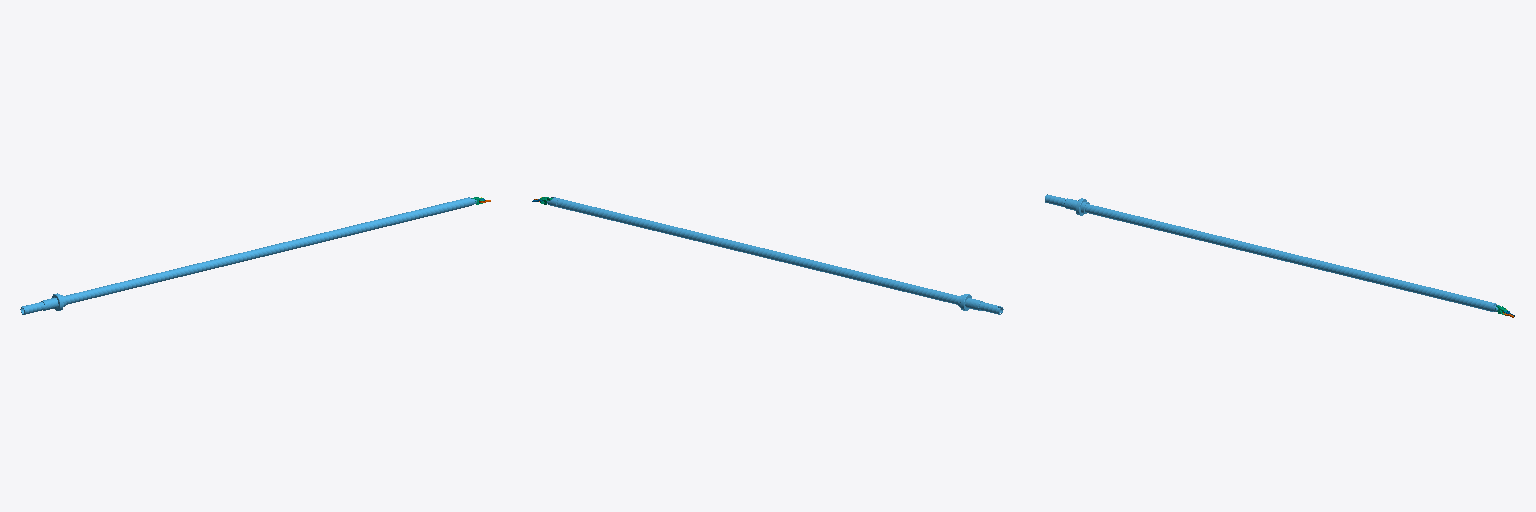
robot.urdf — Main:
<?xml version='1.0' encoding='utf-8'?>
<robot name="Main">
    <link name="tool_main_insert-v2">
        <inertial>
            <origin xyz="-0.0053624259279265694 0.007901906442564912 0.006377546474600954" rpy="0.0 0.0 0.0" />
            <mass value="0.36010027632856906" />
            <inertia ixx="0.00016552115582077248" iyy="0.00040436128711595" izz="0.00030462812672732756" ixy="-8.160725180885336e-06" iyz="5.783785476504269e-09" ixz="3.917362557990069e-08" />
        </inertial>
        <visual name="tool_main_insert-v2_visual">
            <origin xyz="0.0 0.0 0.0" rpy="0.0 0.0 0.0" />
            <geometry>
                <mesh filename="meshes/tool_main_insert-v2.stl" scale="0.001 0.001 0.001" />
            </geometry>
        </visual>
        <collision name="tool_main_insert-v2_collision">
            <origin xyz="0.0 0.0 0.0" rpy="0.0 0.0 0.0" />
            <geometry>
                <mesh filename="meshes/tool_main_insert-v2.stl" scale="0.001 0.001 0.001" />
            </geometry>
        </collision>
    </link>
    <link name="tool_roll_link-v2">
        <inertial>
            <origin xyz="-5.7532335806520506e-09 1.2608024446691956e-09 0.1967211841039864" rpy="0.0 -0.0 0.0" />
            <mass value="0.10488677381482023" />
            <inertia ixx="0.0021125264338710745" iyy="0.002112522692833081" izz="1.5071702981895865e-06" ixy="-5.059757192914916e-10" iyz="3.659973454948201e-10" ixz="2.0093792279488217e-10" />
        </inertial>
        <visual name="tool_roll_link-v2_visual">
            <origin xyz="-0.004490417415677974 0.013859238485145252 0.22368699399447528" rpy="-5.989552451538521e-17 -1.2724994776185814e-17 2.932252056193504" />
            <geometry>
                <mesh filename="meshes/tool_roll_link-v2.stl" scale="0.001 0.001 0.001" />
            </geometry>
        </visual>
        <collision name="tool_roll_link-v2_collision">
            <origin xyz="-0.004490417415677974 0.013859238485145252 0.22368699399447528" rpy="-5.989552451538521e-17 -1.2724994776185814e-17 2.932252056193504" />
            <geometry>
                <mesh filename="meshes/tool_roll_link-v2.stl" scale="0.001 0.001 0.001" />
            </geometry>
        </collision>
    </link>
    <link name="tool_pitch_link-v2">
        <inertial>
            <origin xyz="0.003009815110504164 -0.00017116965634875525 -0.003921098223099633" rpy="0.0 -0.0 0.0" />
            <mass value="0.001848456529673938" />
            <inertia ixx="9.734432308848493e-09" iyy="1.995342841963014e-08" izz="2.144835040937586e-08" ixy="-2.2357564446493725e-09" iyz="2.543611489411446e-10" ixz="4.712461786641537e-10" />
        </inertial>
        <visual name="tool_pitch_link-v2_visual">
            <origin xyz="0.004431695369310802 0.014108396106691332 -0.0003740900047587759" rpy="2.9368751529878456 0.04406167886070218 0.20904837679030283" />
            <geometry>
                <mesh filename="meshes/tool_pitch_link-v2.stl" scale="0.001 0.001 0.001" />
            </geometry>
        </visual>
        <collision name="tool_pitch_link-v2_collision">
            <origin xyz="0.004431695369310802 0.014108396106691332 -0.0003740900047587759" rpy="2.9368751529878456 0.04406167886070218 0.20904837679030283" />
            <geometry>
                <mesh filename="meshes/tool_pitch_link-v2.stl" scale="0.001 0.001 0.001" />
            </geometry>
        </collision>
    </link>
    <link name="tool_yaw_link-v2">
        <inertial>
            <origin xyz="-0.0005021063487370725 0.0022644398585468617 -0.00048108325824431476" rpy="0.0 -0.0 0.0" />
            <mass value="3.2124366203889884e-05" />
            <inertia ixx="7.536764822075474e-11" iyy="1.0516333136817847e-11" izz="7.564951921455124e-11" ixy="1.512371998712397e-11" iyz="1.449196797450011e-11" ixz="-3.2120435856468228e-12" />
        </inertial>
        <visual name="tool_yaw_link-v2_visual">
            <origin xyz="0.005246120425483625 0.007278603059892525 -0.014451594807817148" rpy="1.3660788261929444 0.04406167886070293 0.20904837679030655" />
            <geometry>
                <mesh filename="meshes/tool_yaw_link-v2.stl" scale="0.001 0.001 0.001" />
            </geometry>
        </visual>
        <collision name="tool_yaw_link-v2_collision">
            <origin xyz="0.005246120425483625 0.007278603059892525 -0.014451594807817148" rpy="1.3660788261929444 0.04406167886070293 0.20904837679030655" />
            <geometry>
                <mesh filename="meshes/tool_yaw_link-v2.stl" scale="0.001 0.001 0.001" />
            </geometry>
        </collision>
    </link>
    <link name="gripper_left-v2">
        <inertial>
            <origin xyz="0.0015423589079763644 0.002356840733167289 0.00012016717566702973" rpy="0.0 -0.0 0.0" />
            <mass value="0.0003391195298462404" />
            <inertia ixx="9.063732285662139e-10" iyy="2.9492866828888286e-09" izz="3.0777500775145154e-09" ixy="-9.909896781171059e-10" iyz="-2.398781115928668e-10" ixz="-4.776516831762935e-10" />
        </inertial>
        <visual name="gripper_left-v2_visual">
            <origin xyz="-0.01281004287834648 0.004363350392095093 -0.010511151280136423" rpy="0.5633863355773223 1.3282051773672303 -0.7757137549504287" />
            <geometry>
                <mesh filename="meshes/gripper_left-v2.stl" scale="0.001 0.001 0.001" />
            </geometry>
        </visual>
        <collision name="gripper_left-v2_collision">
            <origin xyz="-0.01281004287834648 0.004363350392095093 -0.010511151280136423" rpy="0.5633863355773223 1.3282051773672303 -0.7757137549504287" />
            <geometry>
                <mesh filename="meshes/gripper_left-v2.stl" scale="0.001 0.001 0.001" />
            </geometry>
        </collision>
    </link>
    <link name="gripper_right-v2">
        <inertial>
            <origin xyz="0.0012770549693135536 0.0034693077476202106 -0.0012404299313093703" rpy="0.0 -0.0 0.0" />
            <mass value="0.00033907724394841216" />
            <inertia ixx="5.498805751145026e-10" iyy="3.3441026653000493e-09" izz="3.0411818832817242e-09" ixy="-1.2249796043285359e-10" iyz="-1.7231536630300892e-11" ixz="6.134297961435797e-10" />
        </inertial>
        <visual name="gripper_right-v2_visual">
            <origin xyz="-0.015005907439477469 0.004656860392743307 -0.006837944409903678" rpy="-0.6671933341833042 1.3092934622134647 -2.036674603254713" />
            <geometry>
                <mesh filename="meshes/gripper_right-v2.stl" scale="0.001 0.001 0.001" />
            </geometry>
        </visual>
        <collision name="gripper_right-v2_collision">
            <origin xyz="-0.015005907439477469 0.004656860392743307 -0.006837944409903678" rpy="-0.6671933341833042 1.3092934622134647 -2.036674603254713" />
            <geometry>
                <mesh filename="meshes/gripper_right-v2.stl" scale="0.001 0.001 0.001" />
            </geometry>
        </collision>
    </link>
    <joint name="tool_main_insert-v2_Revolute-1" type="continuous">
        <origin xyz="0.03349446 0.01262349 0.00643401" rpy="-3.141592653589793 -1.5707963267948966 0" />
        <parent link="tool_main_insert-v2" />
        <child link="tool_roll_link-v2" />
        <axis xyz="0.0 0.0 1.0" />
        <dynamics damping="0.5" friction="0.4"/>
    </joint>
    <joint name="tool_roll_link-v2_Revolute-3" type="revolute">
        <origin xyz="-0.0008140499999999995 -0.003838630000000001 0.44601307" rpy="1.5707963267948966 -1.5707963267948966 0" />
        <parent link="tool_roll_link-v2" />
        <child link="tool_pitch_link-v2" />
        <axis xyz="-2.615361089206941e-34 0.207815 0.978168" />
        <limit lower="-1.570796" upper="1.570796" effort="1" velocity="1" />
        <dynamics damping="0.5" friction="0.4"/>
    </joint>
    <joint name="tool_pitch_link-v2_Rigid-4" type="fixed">
        <origin xyz="0.009337039999999987 -0.00141636 -0.0036534200000000005" rpy="2.775557561562892e-17 -2.775557561562892e-17 1.2585044819704741e-33" />
        <parent link="tool_pitch_link-v2" />
        <child link="tool_yaw_link-v2" />
        <dynamics damping="0.5" friction="0.4"/>
    </joint>
    <joint name="tool_pitch_link-v2_Revolute-5" type="revolute">
        <origin xyz="0.009337039999999987 -0.00141636 -0.0036534200000000005" rpy="2.775557561562892e-17 -2.775557561562892e-17 1.2585044819704741e-33" />
        <parent link="tool_pitch_link-v2" />
        <child link="gripper_left-v2" />
        <axis xyz="0.21195499999999998 -0.955944 0.20309300000000002" />
        <limit lower="0.0" upper="1.570796" effort="1" velocity="1" />
        <dynamics damping="0.5" friction="0.4"/>
    </joint>
    <joint name="tool_pitch_link-v2_Revolute-6" type="revolute">
        <origin xyz="0.009337039999999987 -0.00141636 -0.0036534200000000005" rpy="2.775557561562892e-17 -2.775557561562892e-17 1.2585044819704741e-33" />
        <parent link="tool_pitch_link-v2" />
        <child link="gripper_right-v2" />
        <axis xyz="0.21195499999999998 -0.955944 0.20309300000000002" />
        <limit lower="-1.570796" upper="0.0" effort="1" velocity="1" />
        <dynamics damping="0.5" friction="0.4"/>
    </joint>
</robot>

--- What the picture shows (computed from the rendered views, not written in the file) ---
Views: 3 orthographic renders of the robot side by side, from view 1: azimuth 30°, elevation 25°; view 2: azimuth 150°, elevation 25°; view 3: azimuth 330°, elevation 25°.
Model Main with 6 links and 5 joints (3 revolute, 1 continuous, 1 fixed), rooted at tool_main_insert-v2, posed all joints at 0.
Links seen in each view (by area): view 1: tool_roll_link-v2; view 2: tool_roll_link-v2; view 3: tool_roll_link-v2.
Link boxes in pixels (x1,y1,x2,y2): tool_roll_link-v2: (20,197,476,314); tool_roll_link-v2: (547,197,1003,314); tool_roll_link-v2: (1045,194,1499,311).
Bounding box of the posed robot: 0.4952 × 0.0159 × 0.0159 m (x, y, z).
Meshes: 6 distinct files referenced, 5 mesh visuals loaded (5 binary STL); not drawn: 1 (reference not matched to a file when rendering).
